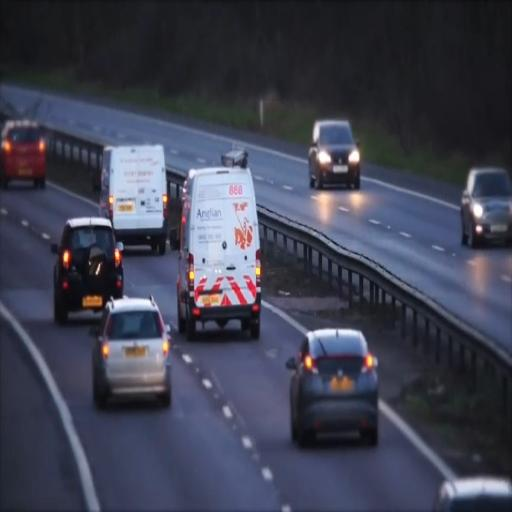car: (286, 326, 378, 448), (92, 294, 173, 409), (51, 215, 124, 325), (460, 166, 512, 248), (307, 119, 361, 191), (0, 120, 47, 189), (435, 474, 512, 511)
truck: (176, 158, 262, 341), (98, 143, 170, 256)
